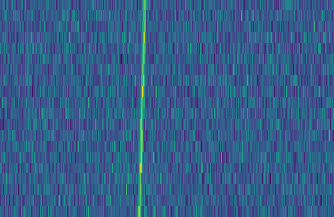signal: (133, 0, 148, 217)
